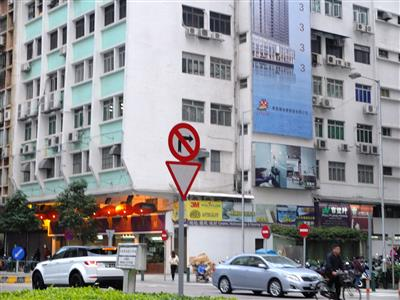keepLeft: (10, 245, 25, 259)
noEntry: (260, 224, 270, 238), (160, 231, 168, 240)
noRightTurn: (167, 121, 201, 162)
noStopping: (63, 229, 73, 241)
yield: (163, 158, 202, 200)
